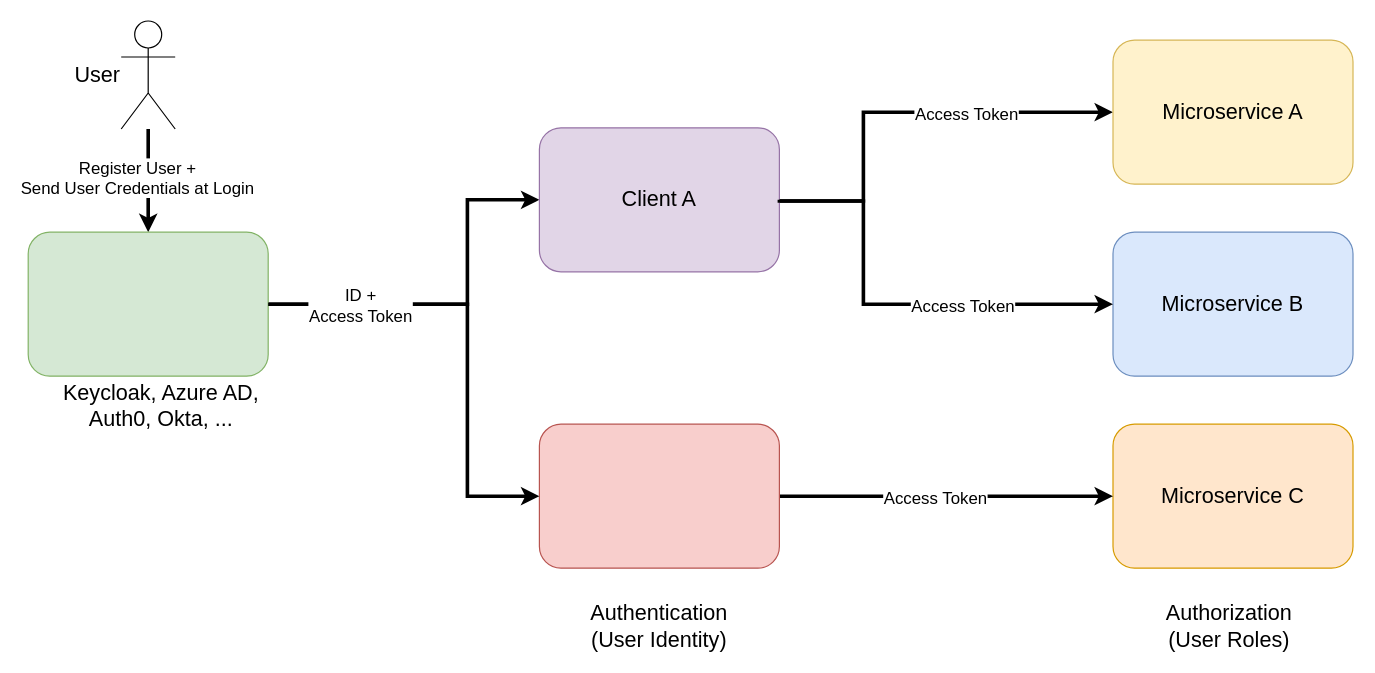
The diagram is 1375 pixels wide and 673 high, and some of its shapes have lost their labels. Each missing label, with the centre of its shape:
"Client B" belongs at pixel 658 495.
"Identity Provider (OpenID Connect Authorization Server)" belongs at pixel 147 303.
